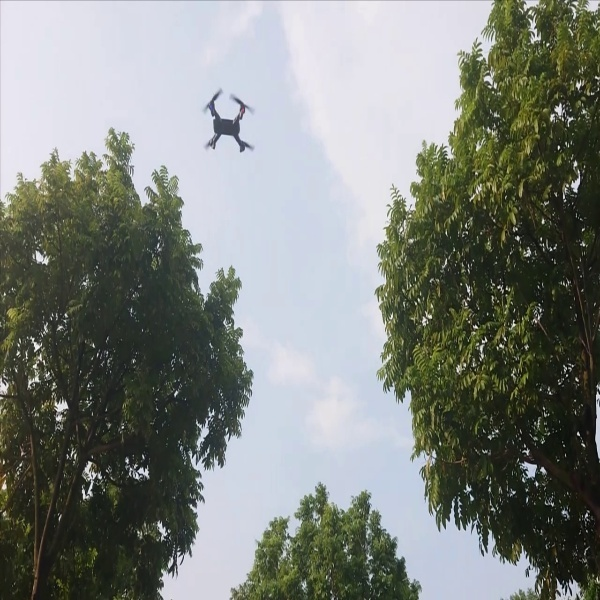drone: (197, 81, 266, 156)
